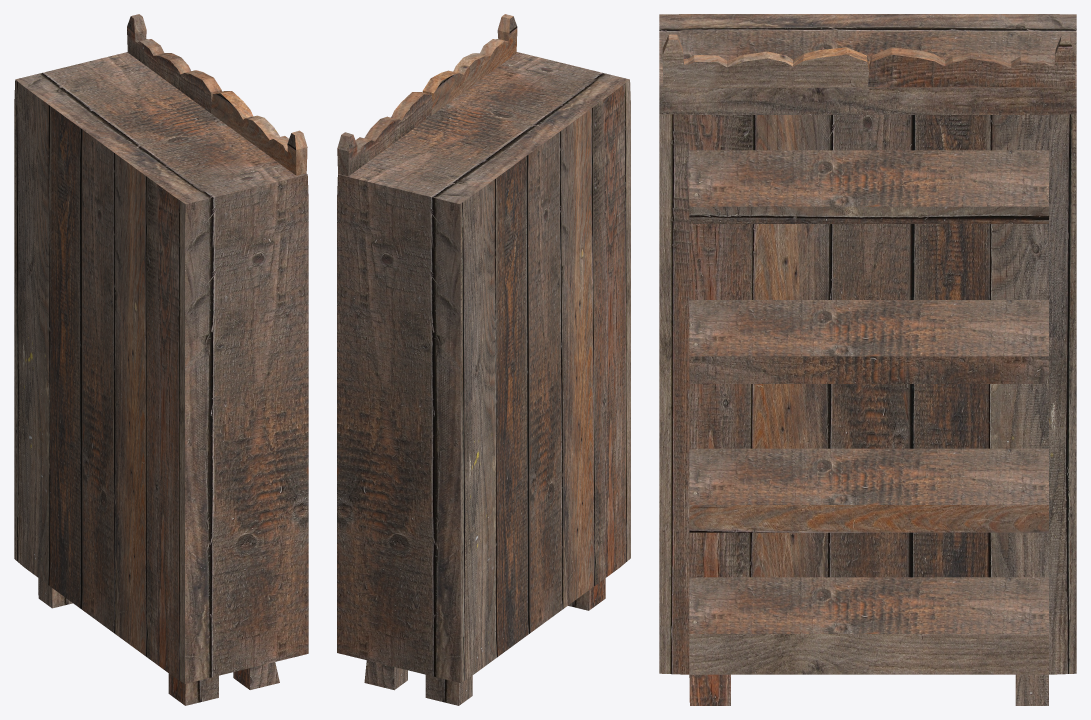
Rendered from BookShelf1.fbx.
3 renders of one model, left to right at view 1: azimuth 30°, elevation 25°; view 2: azimuth 150°, elevation 25°; view 3: azimuth 270°, elevation 25°, orthographic. The views are drawn at different scales.
Parts seen in each view (by area): view 1: Cube.001, Cube.002; view 2: Cube.001, Cube.002; view 3: Cube.001, Cube.002.
Part boxes in pixels (<box>): Cube.001: <box>14,52,308,705</box>; Cube.002: <box>127,14,307,175</box>; Cube.001: <box>337,52,630,705</box>; Cube.002: <box>337,14,517,176</box>; Cube.001: <box>659,14,1076,705</box>; Cube.002: <box>662,34,1075,88</box>.
Size of the model in its own units: 131 by 546 by 306.
Materials: 1 (1 with a texture image).
